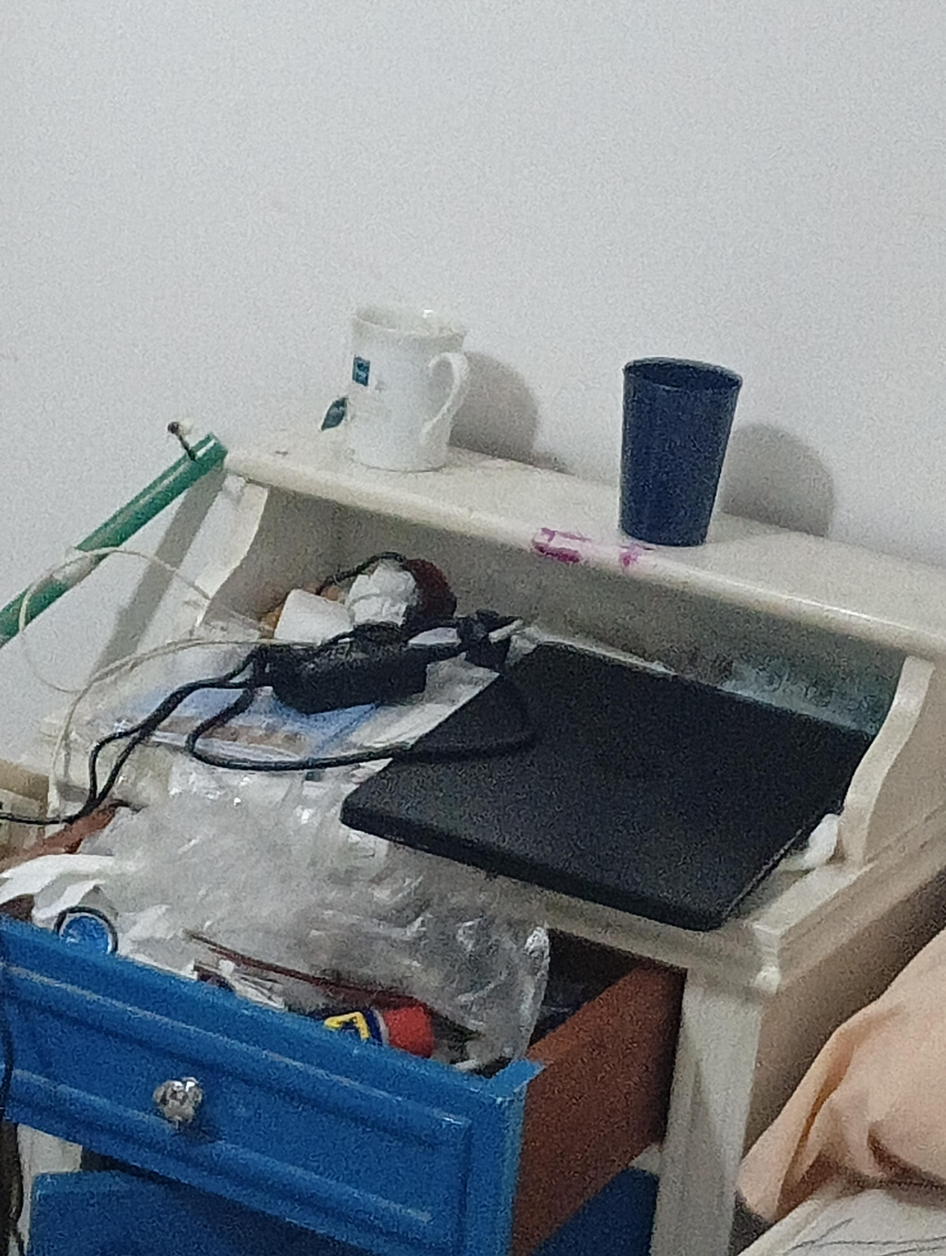cup: (619, 357, 742, 547), (346, 306, 469, 472)
